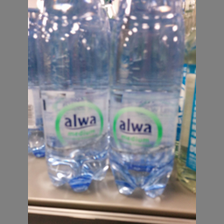water: (109, 1, 185, 197), (36, 1, 112, 194)
